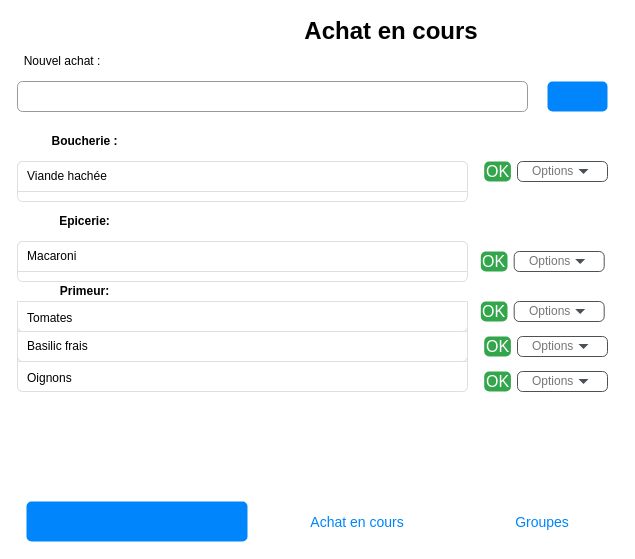
This 635x559 diagram has some shape labels left out. Each missing label, with the box of its shape:
Ajouter: (547, 81, 607, 111)
Liste achats: (26, 501, 247, 541)
produit à acheter...: (16, 80, 528, 112)
